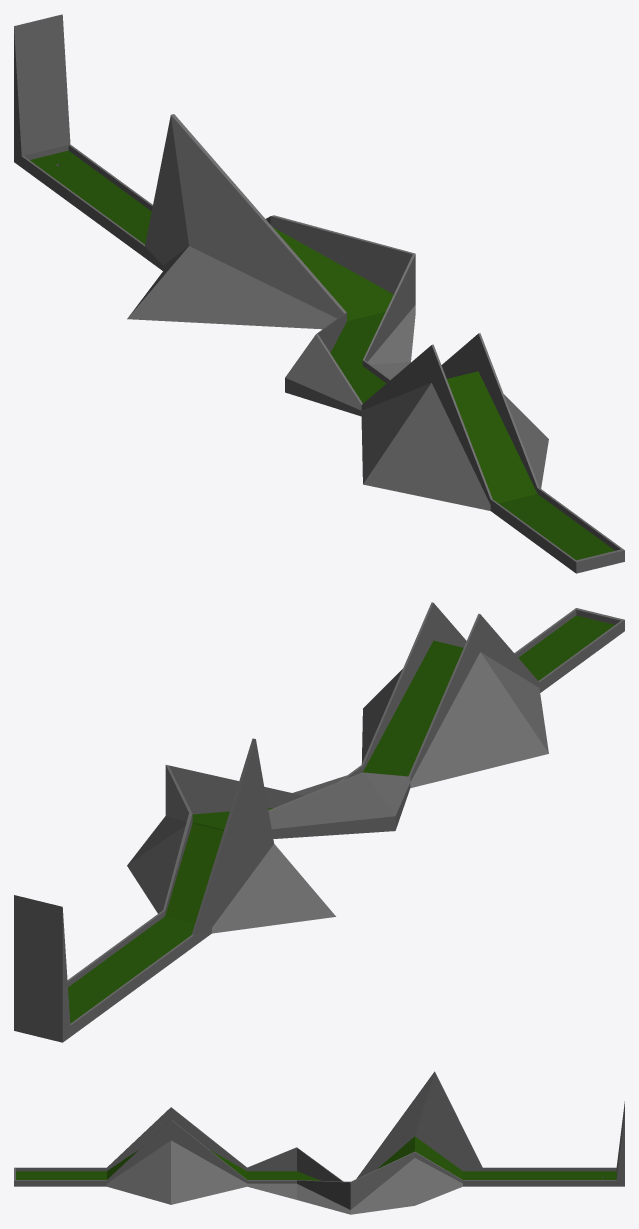
File: Level 4.fbx
3 views of the same model, one above another, from view 1: azimuth 30°, elevation 25°; view 2: azimuth 150°, elevation 25°; view 3: azimuth 270°, elevation 25° (orthographic). The views are drawn at different scales.
Visible parts, largest first — view 1: Cube.003; view 2: Cube.003; view 3: Cube.003.
Part boxes in pixels (x1,y1,x2,y2): Cube.003: (14, 14, 624, 573); Cube.003: (14, 602, 624, 1042); Cube.003: (14, 1071, 624, 1214).
Size of the model in its own units: 8347 by 6332 by 35385.
